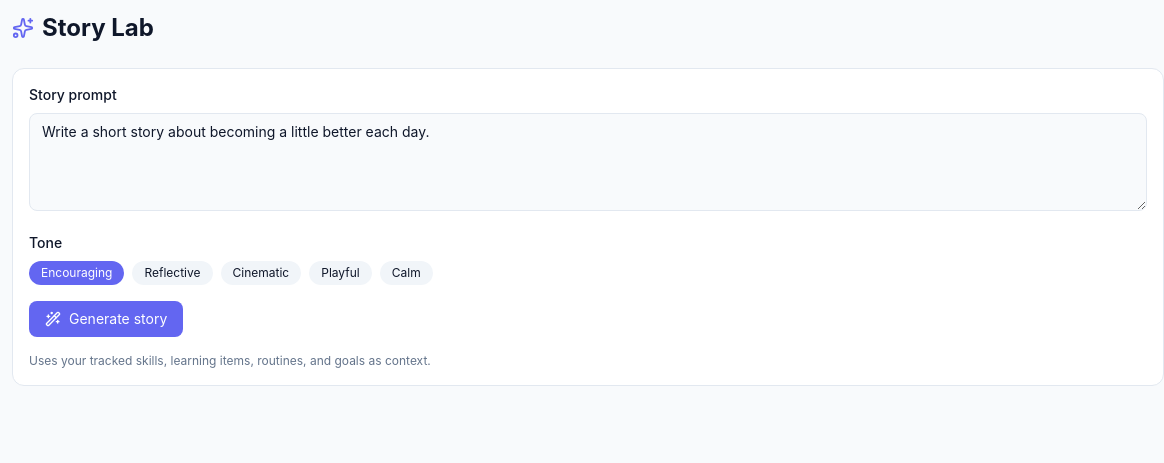
it: StoryPage › shows error on failure
The image size is (1164, 463).
Click the button "Generate story". click: [106, 319]
box: [29,301,183,337]
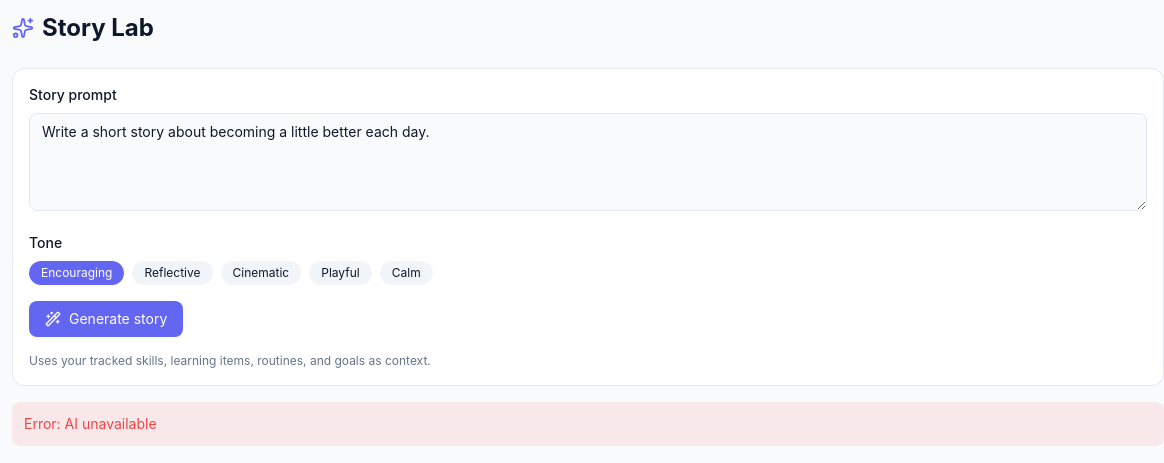
Check: the text "Error: AI unavailable" is shown, box [12,402,1163,446]
